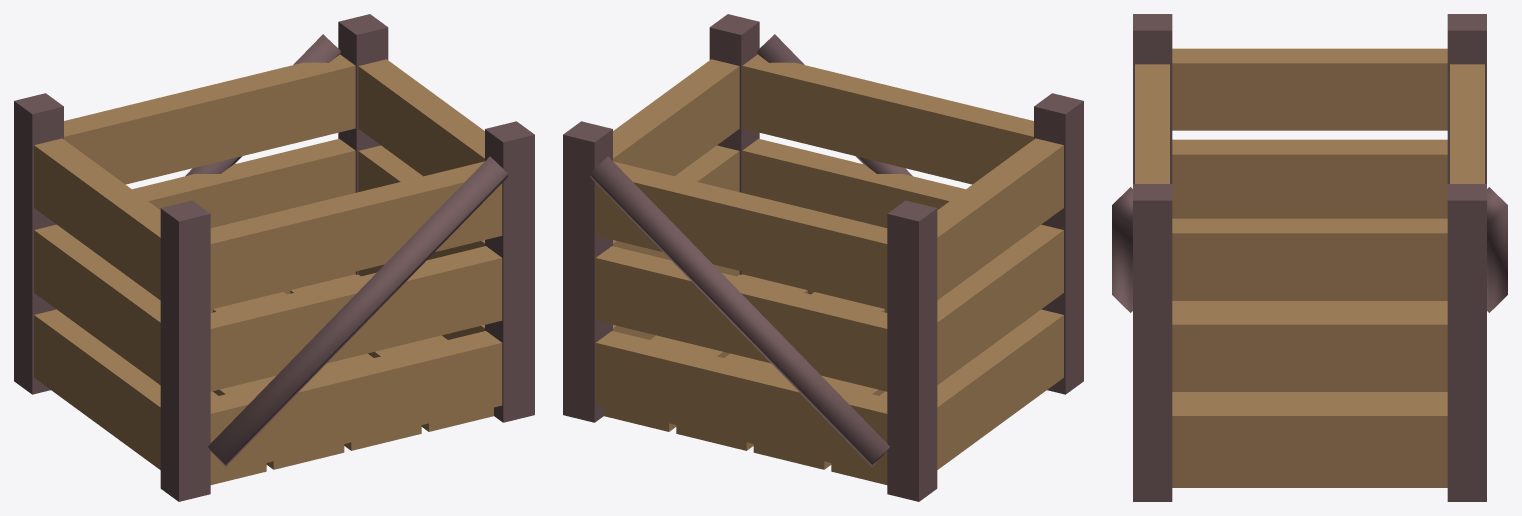
File: crate.glb
The picture shows the model from 3 angles, left to right: view 1: azimuth 30°, elevation 25°; view 2: azimuth 150°, elevation 25°; view 3: azimuth 270°, elevation 25°; orthographic projection. The views are drawn at different scales.
Parts seen in each view (by area): view 1: Crate_front_back_board.005, Crate_front_back_board, Crate_front_back_board.004, Crate_front_back_board.002, Crate_corner_post, Crate_diagonal_brace, Crate_side_board.004, Crate_corner_post.002, Crate_side_board.002, Crate_side_board, Crate_front_back_board.003, Crate_side_board.005 (+8 smaller); view 2: Crate_front_back_board.004, Crate_front_back_board.001, Crate_front_back_board.005, Crate_front_back_board.003, Crate_corner_post.001, Crate_diagonal_brace.001, Crate_side_board.004, Crate_corner_post.003, Crate_side_board.002, Crate_side_board, Crate_front_back_board.002, Crate_side_board.005 (+8 smaller); view 3: Crate_side_board.001, Crate_side_board.004, Crate_side_board.005, Crate_side_board.003, Crate_side_board.002, Crate_corner_post.002, Crate_corner_post.003, Crate_front_back_board.004, Crate_front_back_board.005, Crate_corner_post, Crate_corner_post.001, Crate_floor_board (+4 smaller).
Boxes of the visible parts, <box> form: Crate_front_back_board.005: <box>64,54,355,184</box>; Crate_front_back_board: <box>210,331,502,476</box>; Crate_front_back_board.004: <box>210,161,502,306</box>; Crate_front_back_board.002: <box>210,246,502,391</box>; Crate_corner_post: <box>160,200,210,501</box>; Crate_diagonal_brace: <box>208,156,507,466</box>; Crate_side_board.004: <box>34,138,160,300</box>; Crate_corner_post.002: <box>485,121,534,422</box>; Crate_side_board.002: <box>34,224,160,384</box>; Crate_side_board: <box>34,309,160,469</box>; Crate_front_back_board.003: <box>132,138,355,227</box>; Crate_side_board.005: <box>358,59,484,176</box>; Crate_front_back_board.004: <box>742,54,1033,184</box>; Crate_front_back_board.001: <box>595,331,887,476</box>; Crate_front_back_board.005: <box>595,161,887,306</box>; Crate_front_back_board.003: <box>595,246,887,391</box>; Crate_corner_post.001: <box>887,200,937,501</box>; Crate_diagonal_brace.001: <box>590,156,889,466</box>; Crate_side_board.004: <box>937,138,1063,300</box>; Crate_corner_post.003: <box>563,121,612,422</box>; Crate_side_board.002: <box>937,224,1063,384</box>; Crate_side_board: <box>937,309,1063,469</box>; Crate_front_back_board.002: <box>742,138,965,227</box>; Crate_side_board.005: <box>613,59,739,176</box>; Crate_side_board.001: <box>1172,401,1447,483</box>; Crate_side_board.004: <box>1172,48,1447,130</box>; Crate_side_board.005: <box>1172,218,1447,300</box>; Crate_side_board.003: <box>1172,310,1447,391</box>; Crate_side_board.002: <box>1172,139,1447,218</box>; Crate_corner_post.002: <box>1133,184,1172,501</box>; Crate_corner_post.003: <box>1447,184,1486,501</box>; Crate_front_back_board.004: <box>1135,64,1169,183</box>; Crate_front_back_board.005: <box>1450,64,1484,183</box>; Crate_corner_post: <box>1133,14,1172,183</box>; Crate_corner_post.001: <box>1447,14,1486,183</box>; Crate_floor_board: <box>1172,301,1447,309</box>.
Bounding box in the file's own units: 1.01 × 0.76 × 0.905.
